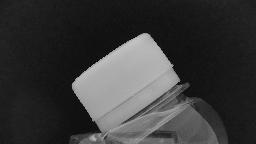Broken Cap: (60, 23, 202, 138)
